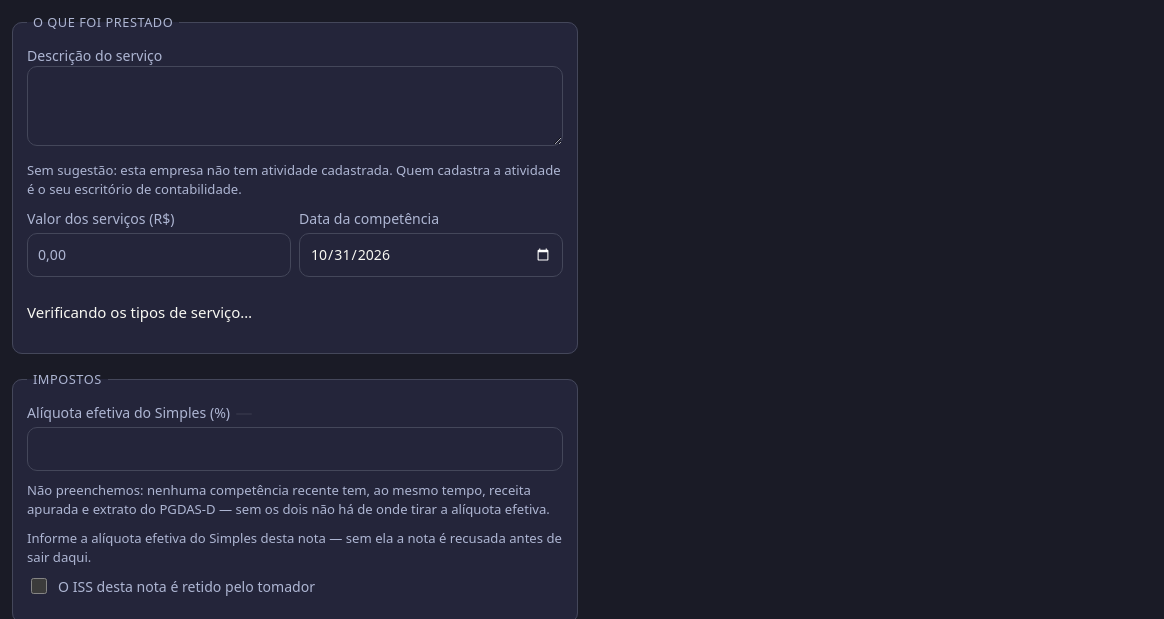
Test: o VALOR: campo de moeda, uma leitura só › a pré-visualização mostra o valor formatado que o campo contém
(page scrolled)
Type "150000" into the field with id "emitir-valor" at (159, 255), box x1=27 y1=233 x2=291 y2=277
(page scrolled)
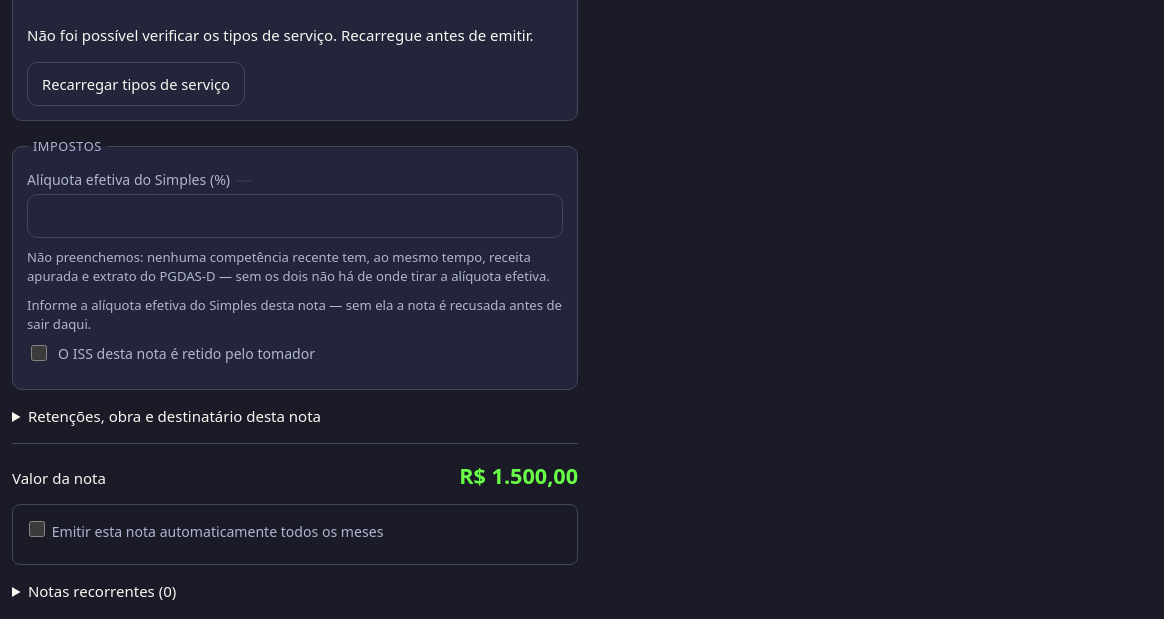
expect the text "R$ 1.500,00" is shown: met, box x1=459 y1=460 x2=578 y2=492
